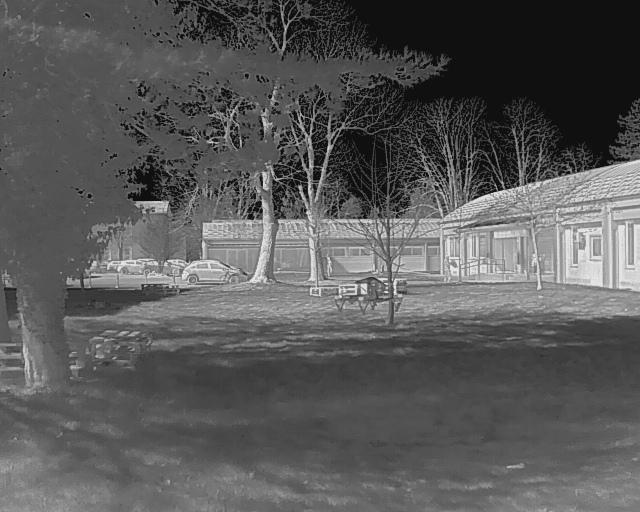drone: (303, 267, 419, 329)
